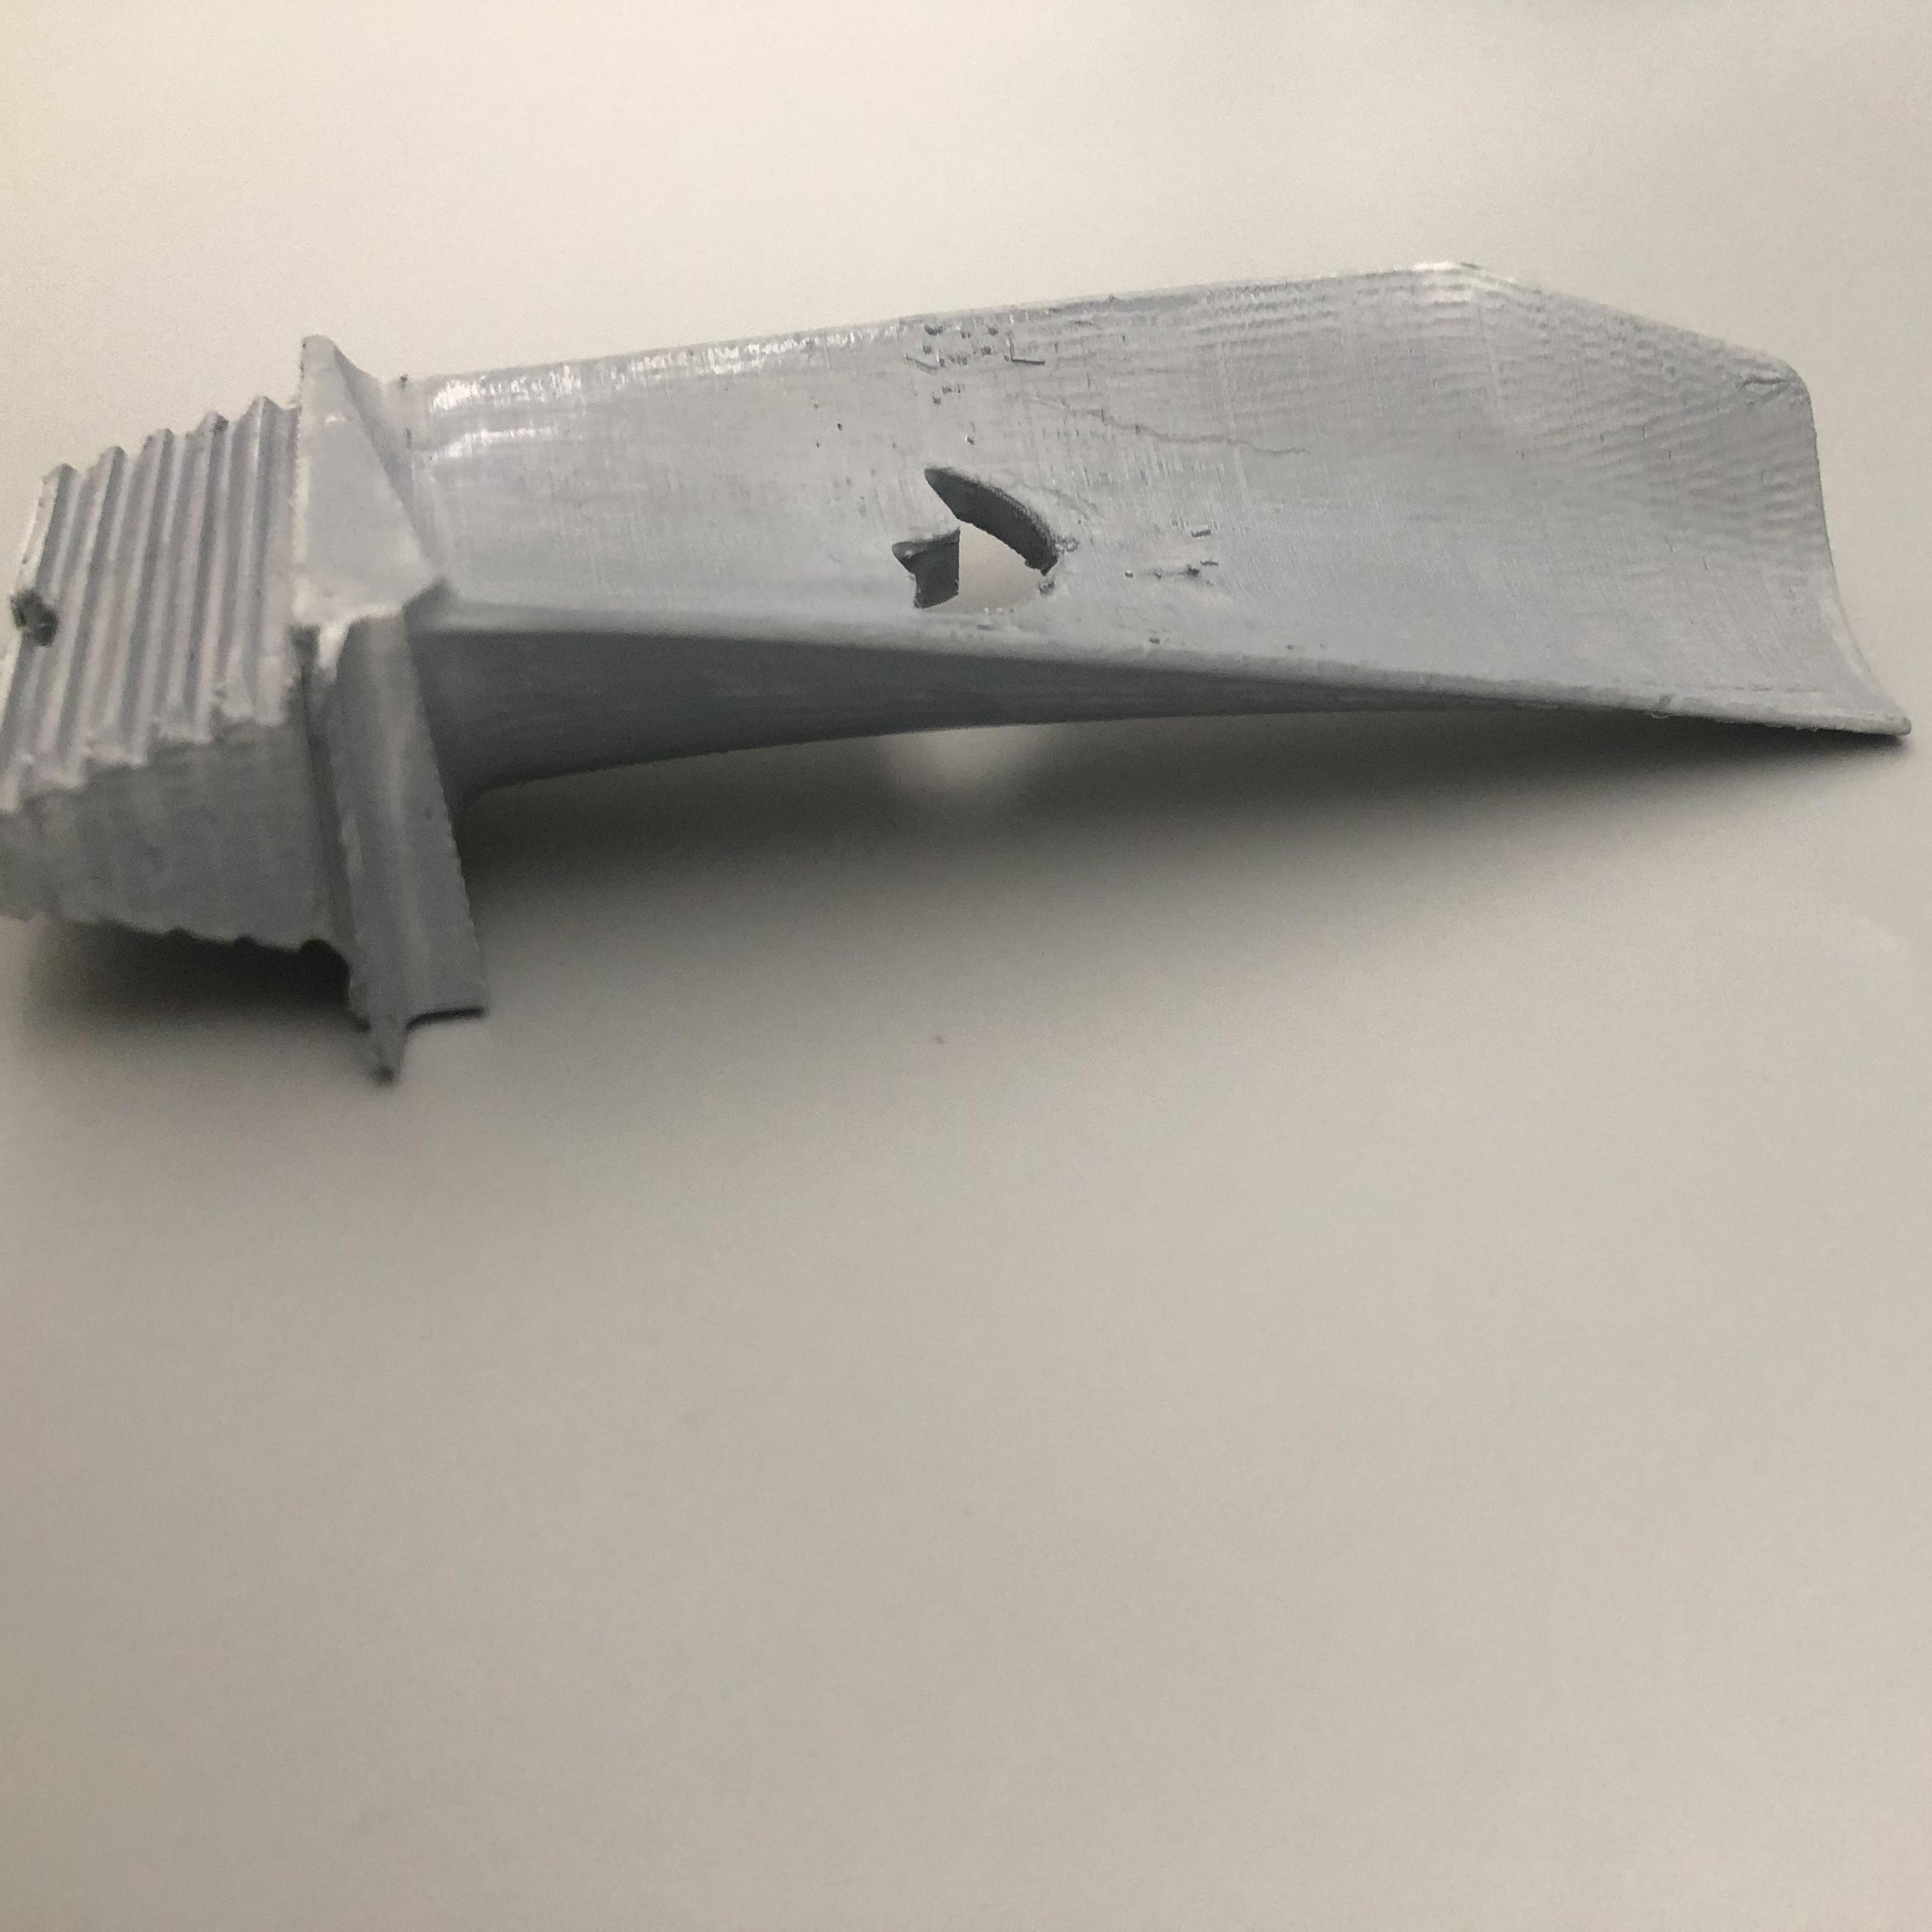breakdown: (870, 456, 1081, 623)
